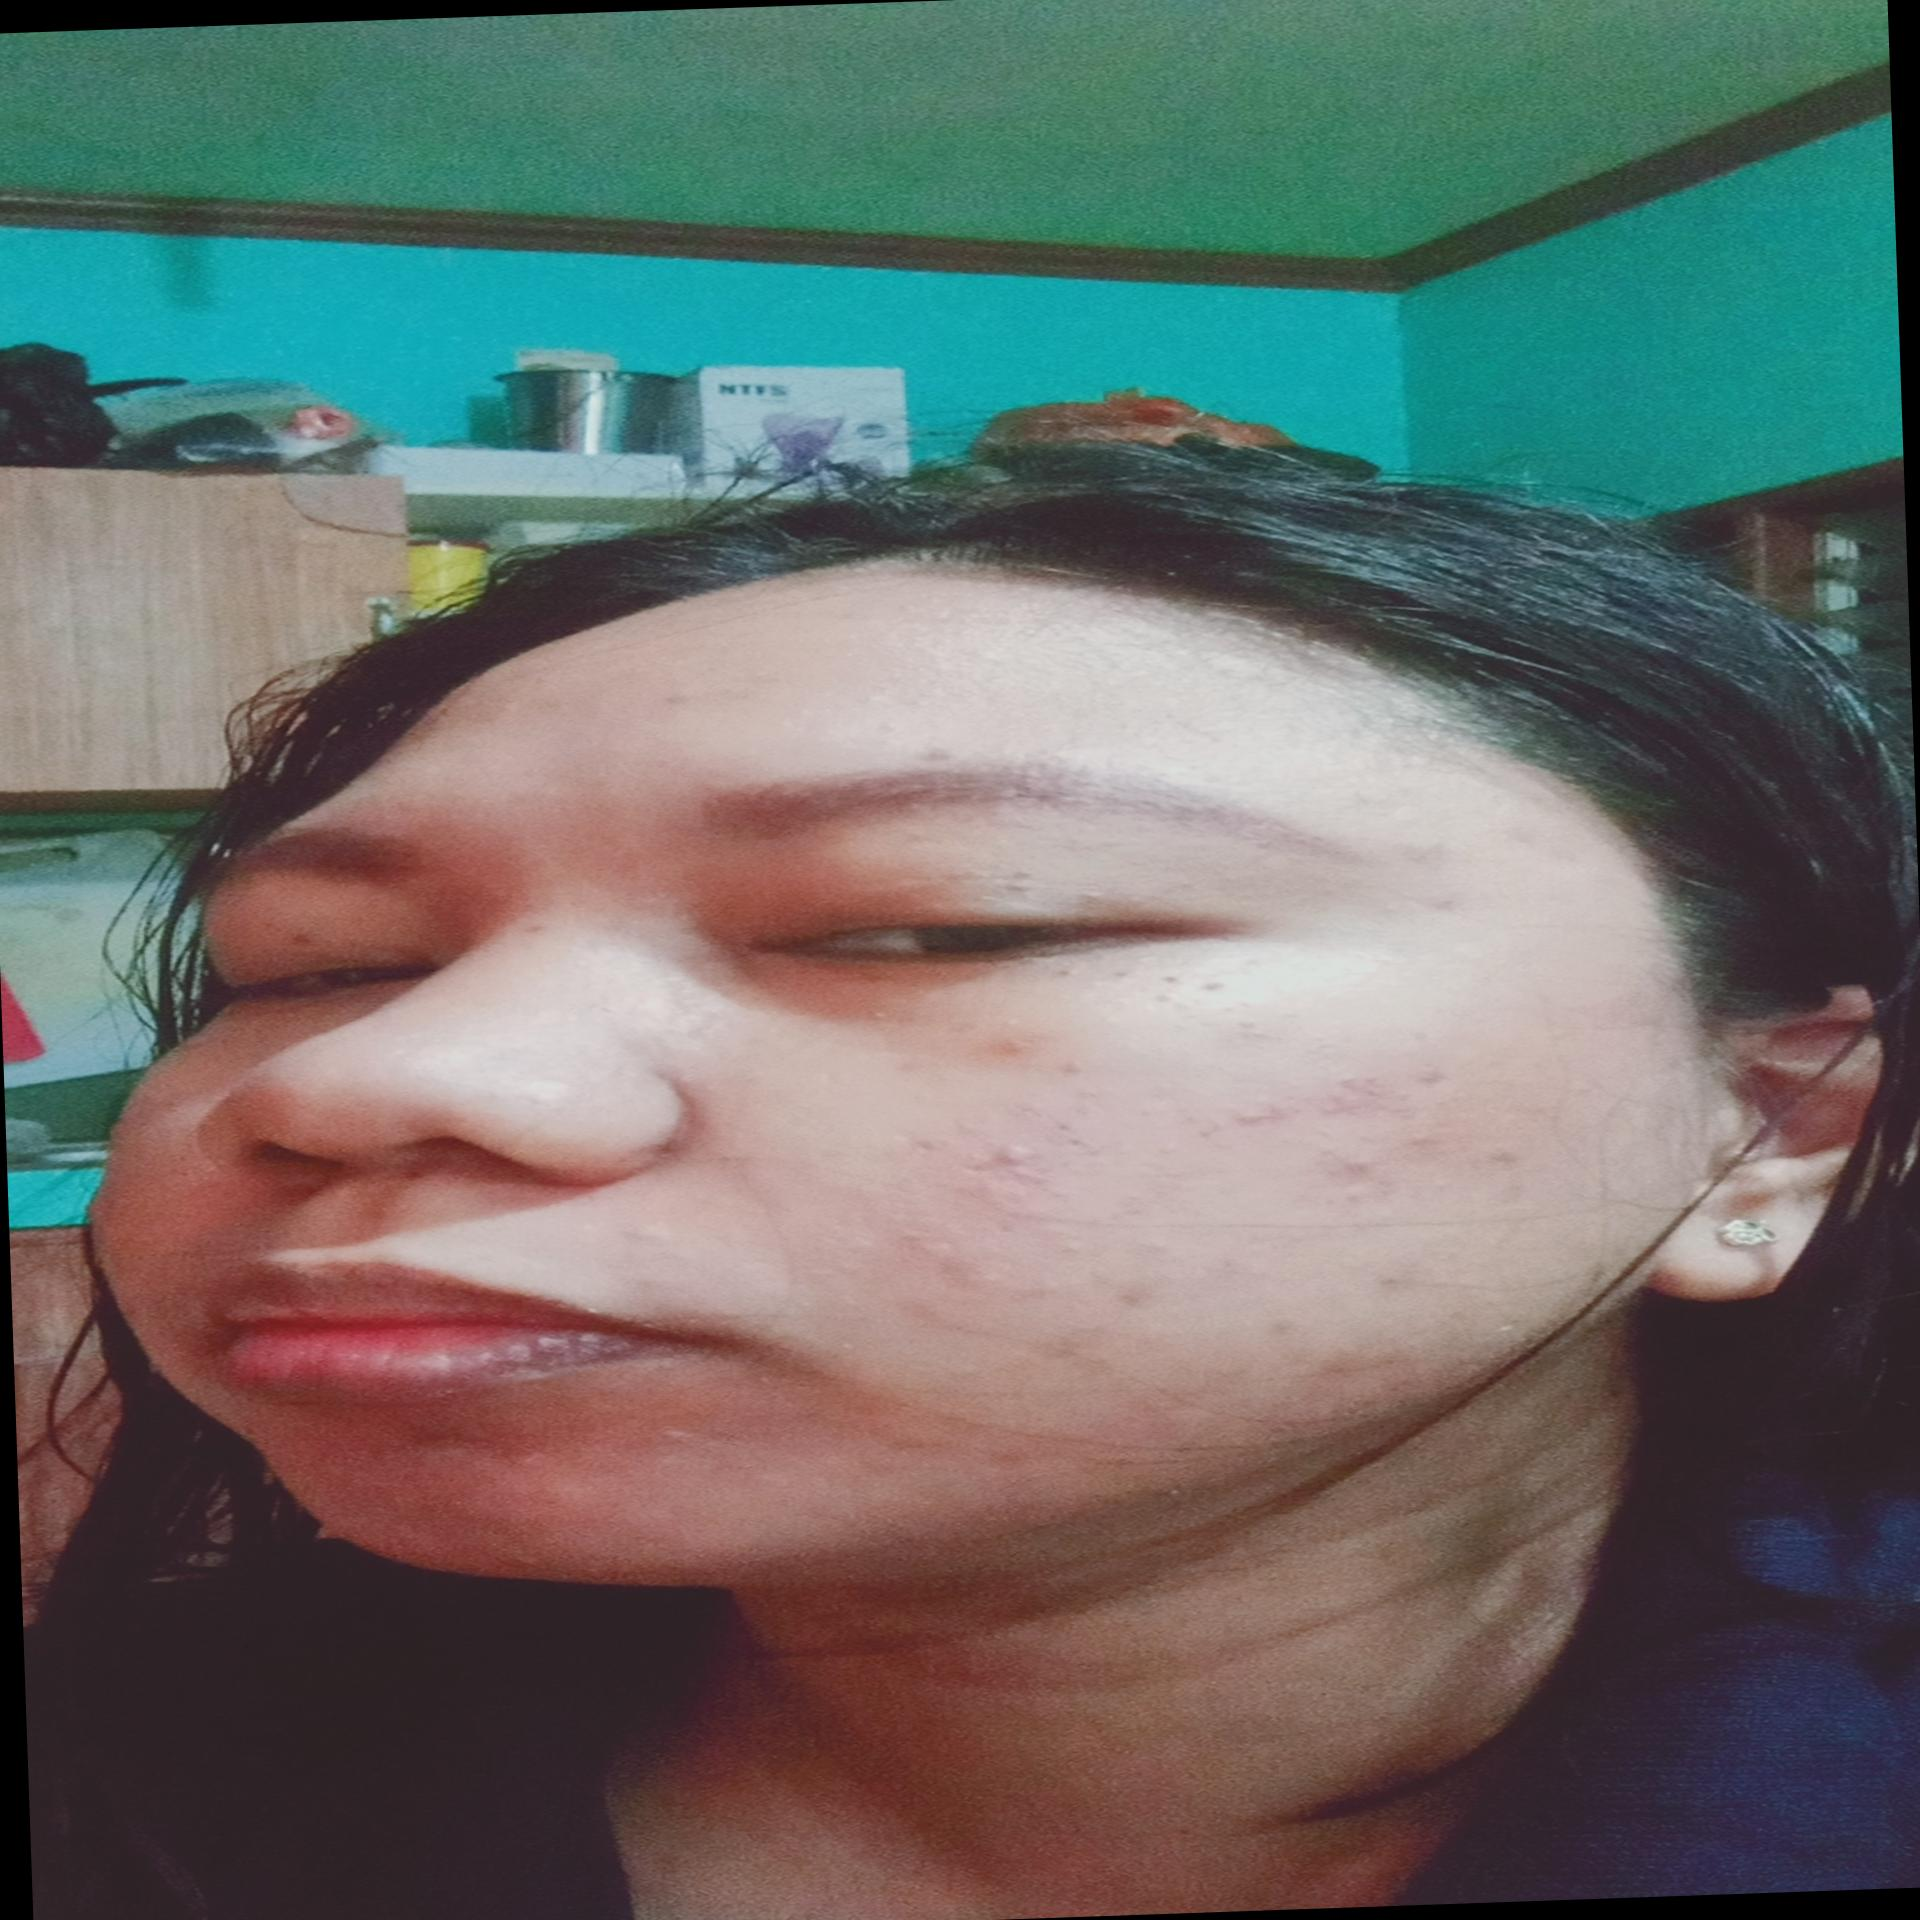Acne: (890, 1224, 1023, 1303), (1308, 1067, 1419, 1124), (925, 1139, 1048, 1187), (1313, 1146, 1410, 1201), (1338, 1254, 1447, 1299), (983, 1029, 1071, 1080), (1400, 1044, 1487, 1094), (1097, 1280, 1178, 1326), (1456, 1129, 1542, 1169), (1227, 1092, 1306, 1134), (491, 1442, 582, 1477), (1422, 884, 1489, 921), (1046, 1329, 1111, 1364), (492, 1545, 559, 1575), (918, 735, 978, 763), (1248, 1313, 1299, 1340), (876, 1431, 927, 1451)
Blackhead: (1004, 1099, 1143, 1162), (1173, 1004, 1301, 1058)
